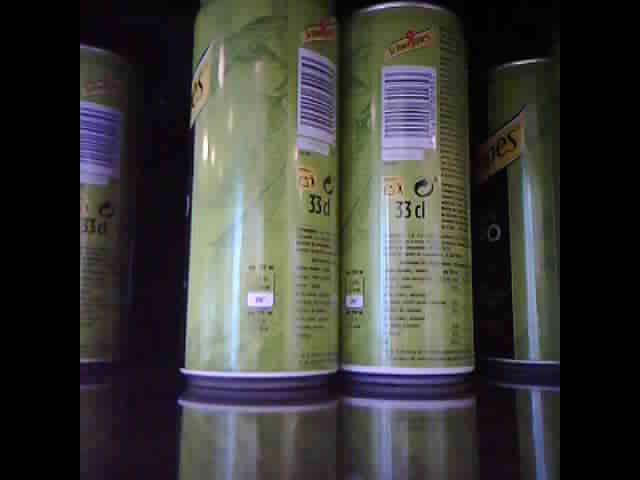schweppes: (174, 1, 345, 389), (335, 3, 478, 388), (489, 49, 561, 371), (77, 45, 119, 373)
